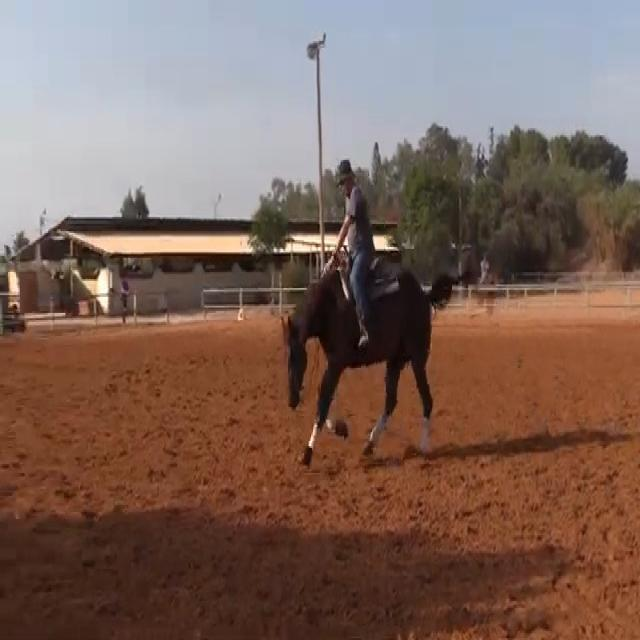horse: (278, 258, 465, 468)
